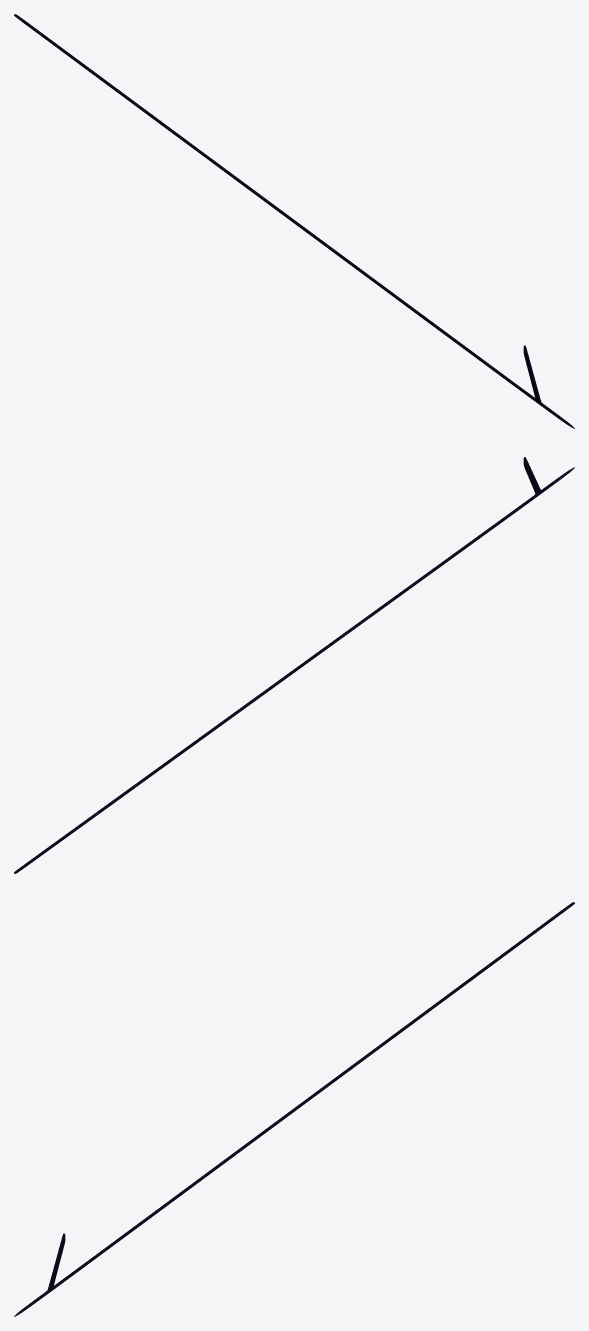
File: Flecha.fbx
3 views of the same model, one above another, from view 1: azimuth 30°, elevation 25°; view 2: azimuth 150°, elevation 25°; view 3: azimuth 330°, elevation 25° (orthographic).
Visible parts, largest first — view 1: Cube.001; view 2: Cube.001; view 3: Cube.001.
Boxes of the visible parts, x1,y1,x2,y2 form: Cube.001: (14,14,574,428); Cube.001: (14,457,574,873); Cube.001: (14,902,574,1316).
Size of the model in its own units: 3.32 by 57.5 by 1219.
